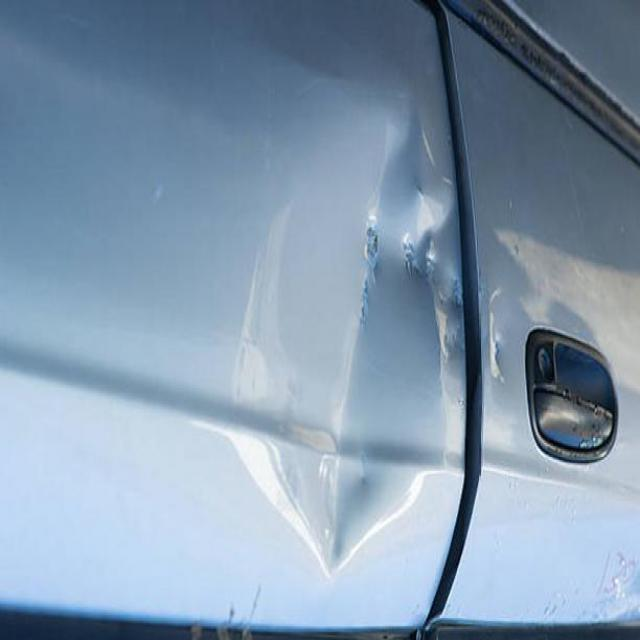dent: (232, 112, 487, 611)
